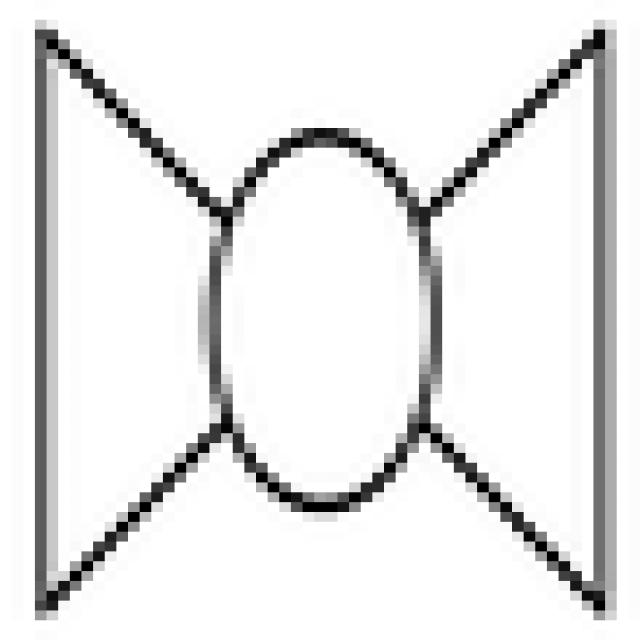ball valve: (38, 28, 602, 620)
